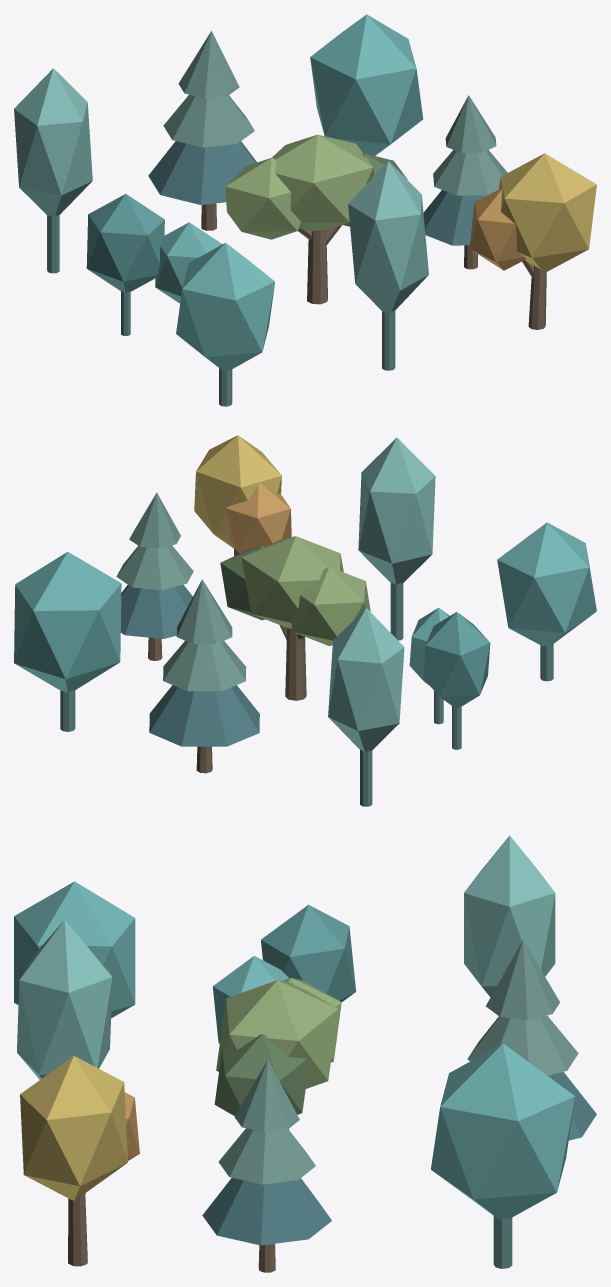
The model's file is campus_forest_mixed_v01.glb.
3 views of the same model, one above another, from view 1: azimuth 30°, elevation 25°; view 2: azimuth 150°, elevation 25°; view 3: azimuth 270°, elevation 25° (orthographic). The views are drawn at different scales.
Parts seen in each view (by area): view 1: campus_forest_mixed; view 2: campus_forest_mixed; view 3: campus_forest_mixed.
Part boxes in pixels (x1=…): campus_forest_mixed: x1=14, y1=14, x2=596, y2=406; campus_forest_mixed: x1=14, y1=435, x2=596, y2=806; campus_forest_mixed: x1=14, y1=835, x2=596, y2=1272.
Size of the model in its own units: 8.74 by 4.17 by 8.78.
1 material, 1 textured.
